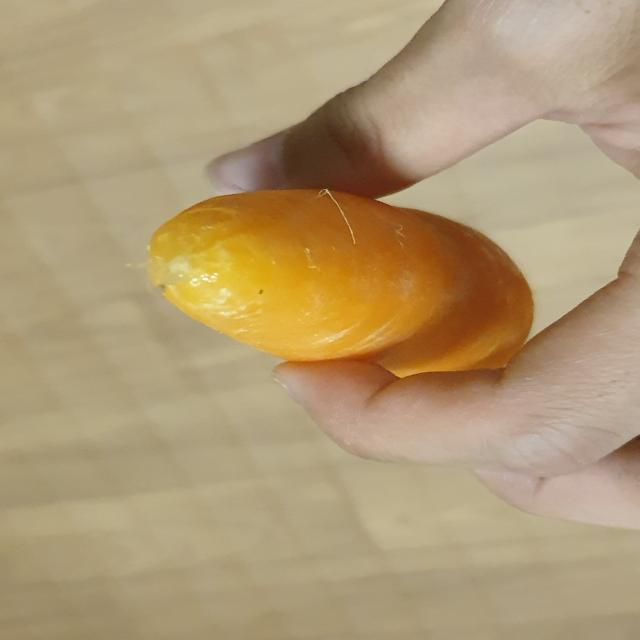Carrot: (140, 181, 542, 404)
